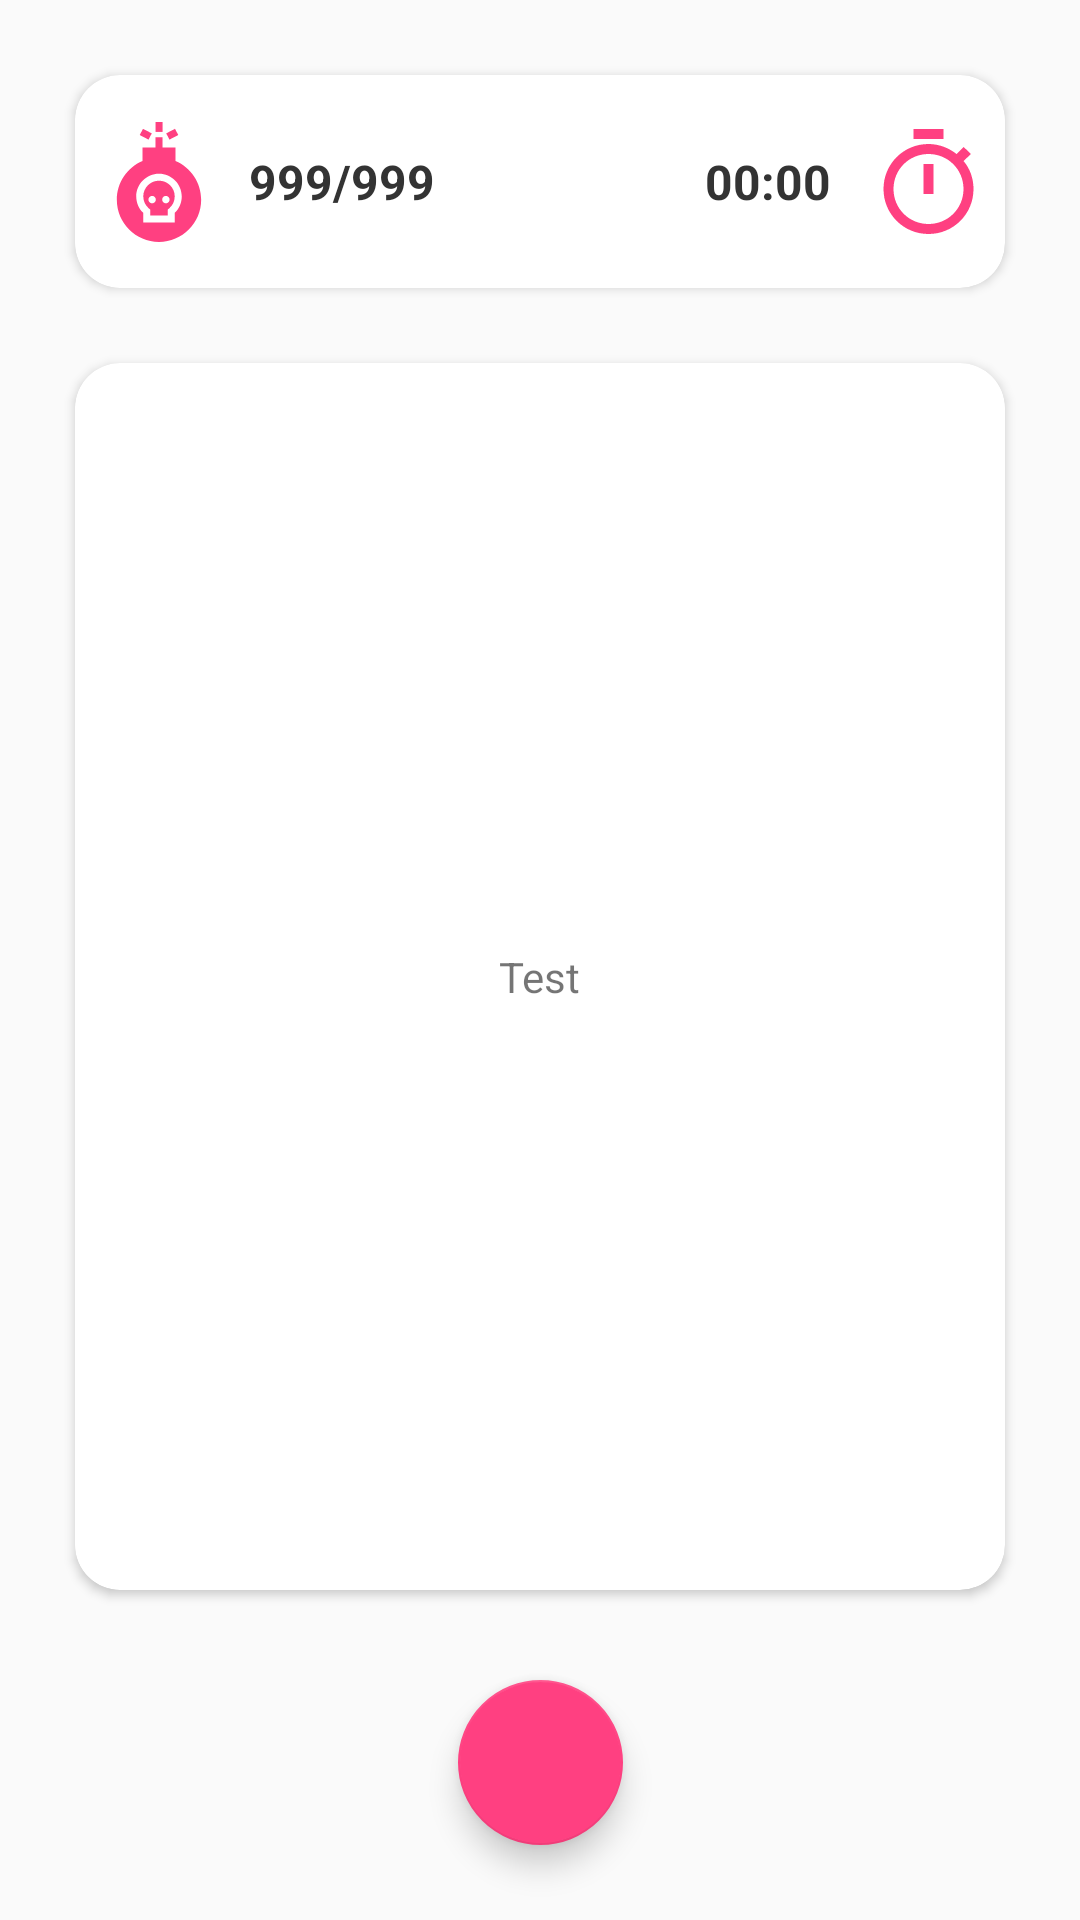

Point at icon controls on the screen. Image size 1080×1920, points as [x,y].
timer: [928,181]
